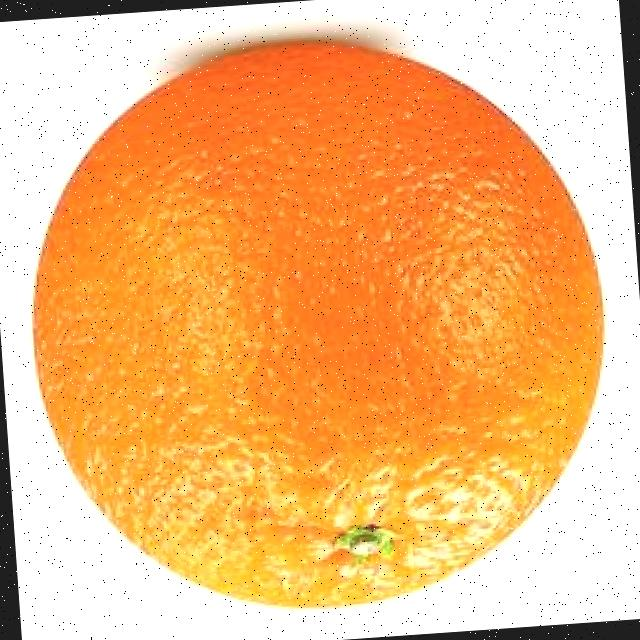orange: (12, 20, 626, 629)
